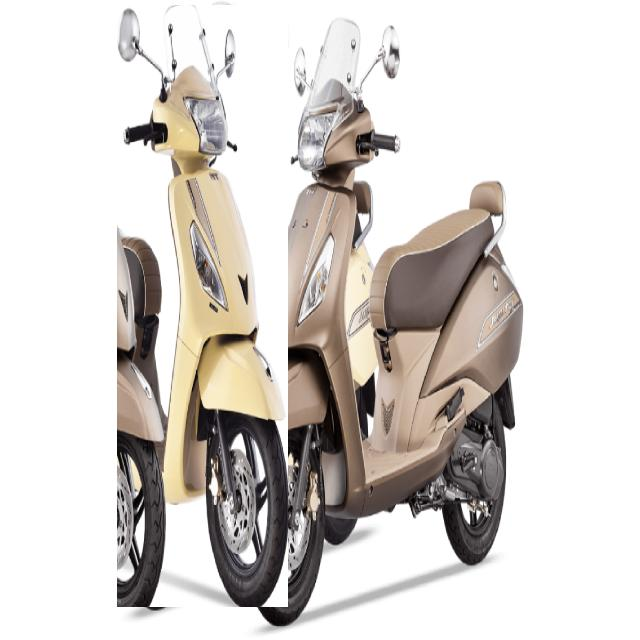motorcycle: (241, 19, 522, 625), (118, 6, 288, 607)
